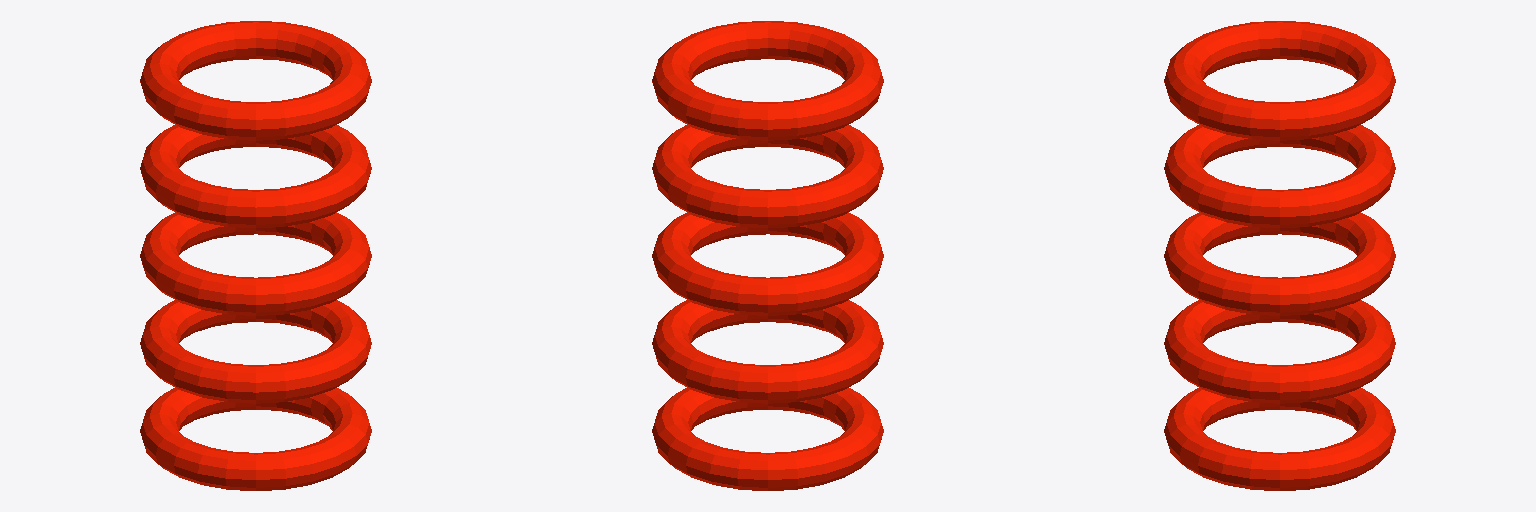
3 views of the same model, side by side, from view 1: azimuth 30°, elevation 25°; view 2: azimuth 150°, elevation 25°; view 3: azimuth 270°, elevation 25° (orthographic).
Parts seen in each view (by area): view 1: Torus001, Torus004, Torus002, Torus005, Torus003; view 2: Torus001, Torus002, Torus004, Torus005, Torus003; view 3: Torus001, Torus004, Torus002, Torus005, Torus003.
Boxes of the visible parts, x1=… form: Torus001: x1=140, y1=21, x2=371, y2=140; Torus004: x1=140, y1=300, x2=371, y2=403; Torus002: x1=140, y1=125, x2=371, y2=227; Torus005: x1=140, y1=388, x2=371, y2=490; Torus003: x1=140, y1=212, x2=371, y2=315; Torus001: x1=652, y1=21, x2=883, y2=140; Torus002: x1=652, y1=125, x2=883, y2=227; Torus004: x1=652, y1=300, x2=883, y2=403; Torus005: x1=652, y1=388, x2=883, y2=490; Torus003: x1=652, y1=212, x2=883, y2=315; Torus001: x1=1164, y1=21, x2=1395, y2=140; Torus004: x1=1164, y1=300, x2=1395, y2=403; Torus002: x1=1164, y1=125, x2=1395, y2=227; Torus005: x1=1164, y1=388, x2=1395, y2=490; Torus003: x1=1164, y1=212, x2=1395, y2=315.
Bounding box in the file's own units: 24 × 44 × 24.
1 materials, 1 textured.